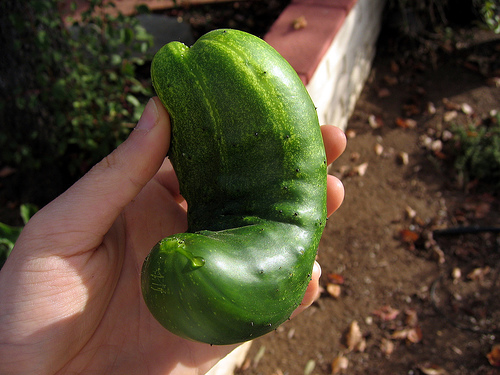cucumber: (140, 26, 328, 343)
